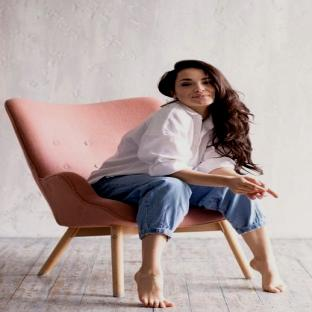Human: (88, 60, 283, 308)
